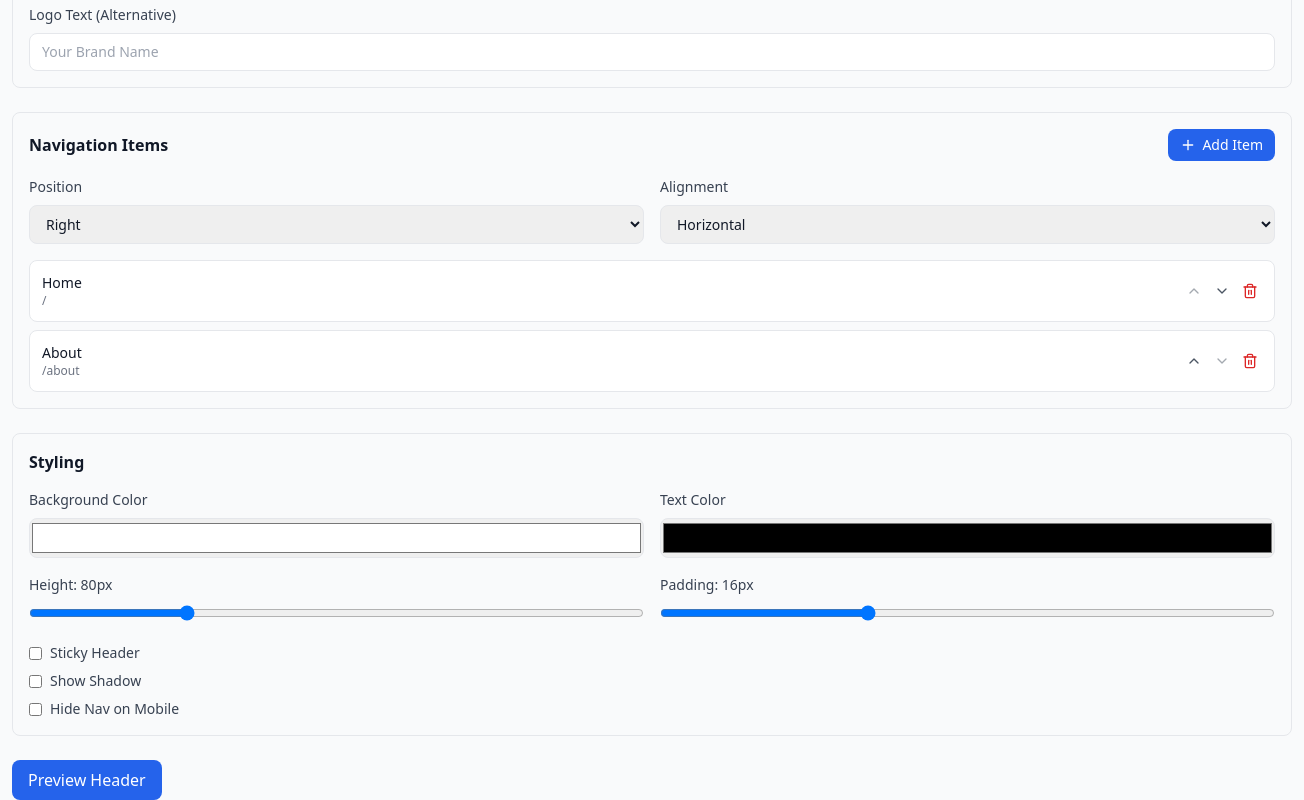
Test: HeaderEditor › Preview › should switch to preview mode
(page scrolled)
What coordinates should you click on to do the following:
click the button "Preview Header"
I would click on:
 (87, 780)
Its box is left=12, top=760, right=162, bottom=799.
(page scrolled)
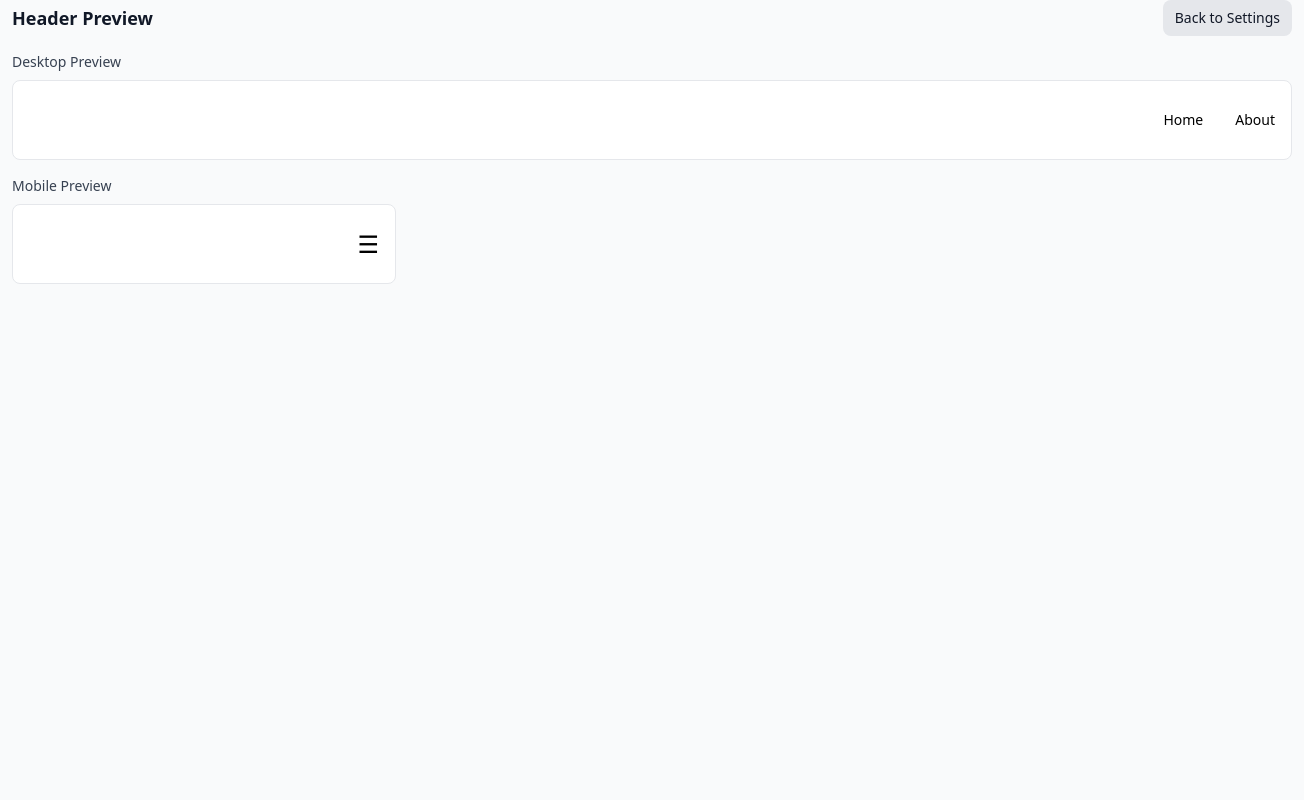
Now the button "Back to Settings" is shown, box left=1163, top=0, right=1292, bottom=36
